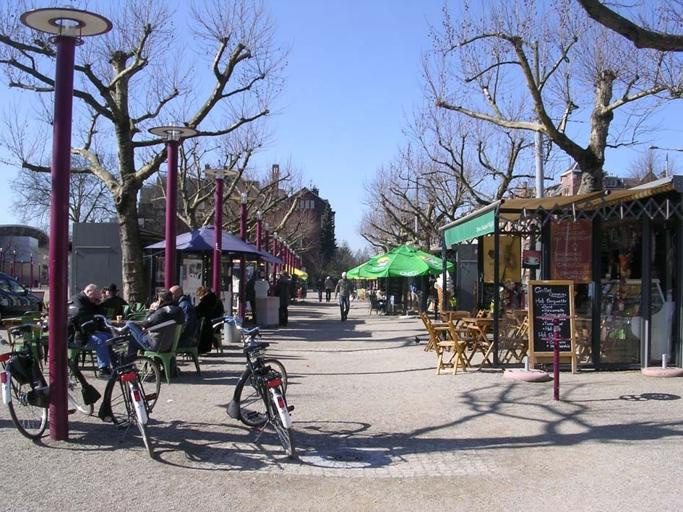non-vehicle: (0, 298, 94, 440), (211, 310, 298, 456), (80, 312, 163, 458)
